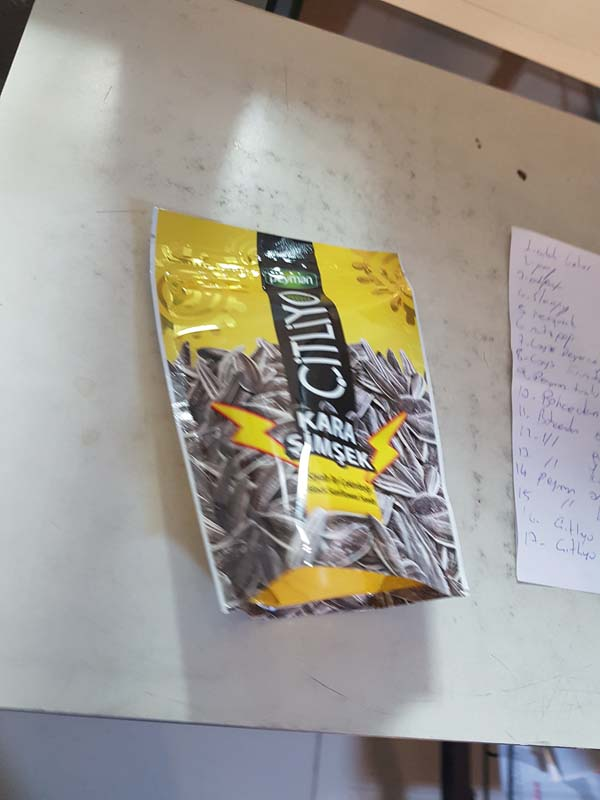citliyorkarasisimsek: (145, 199, 475, 618)
